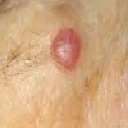Carcinoma: (54, 27, 80, 71)
